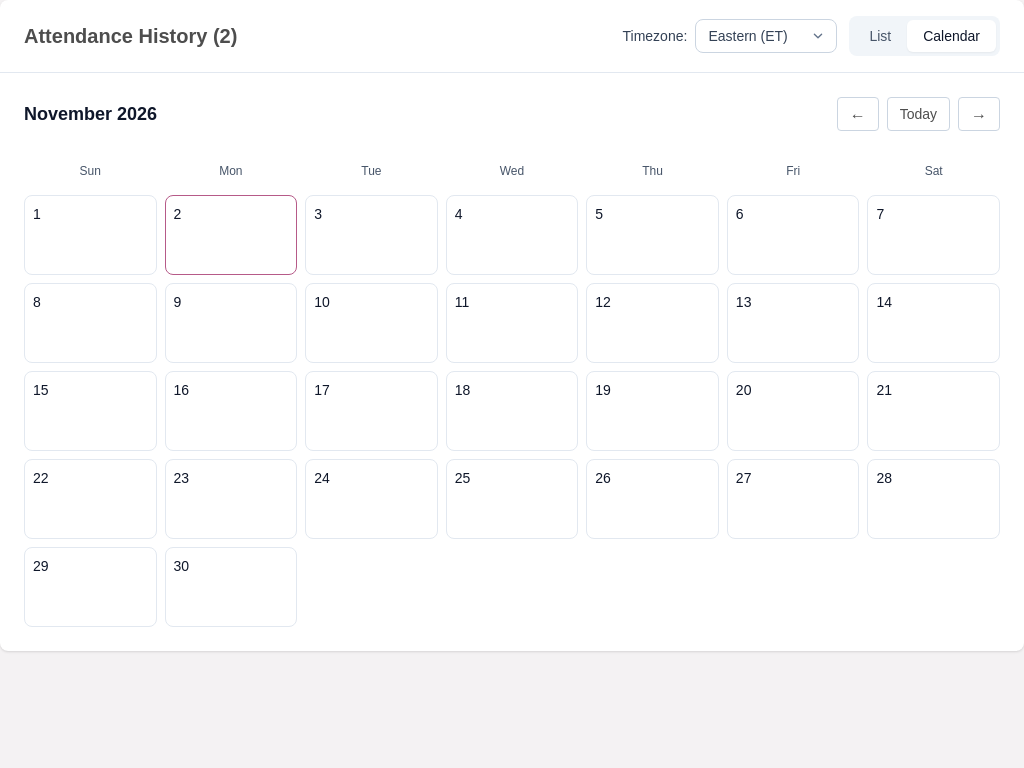
Test: MemberAttendanceView (admin member page) › names each prickle's host by display name, falling back to the legal name
This screenshot has width=1024, height=768.
Click the button "List" at (880, 36), box 853,20 -> 907,52
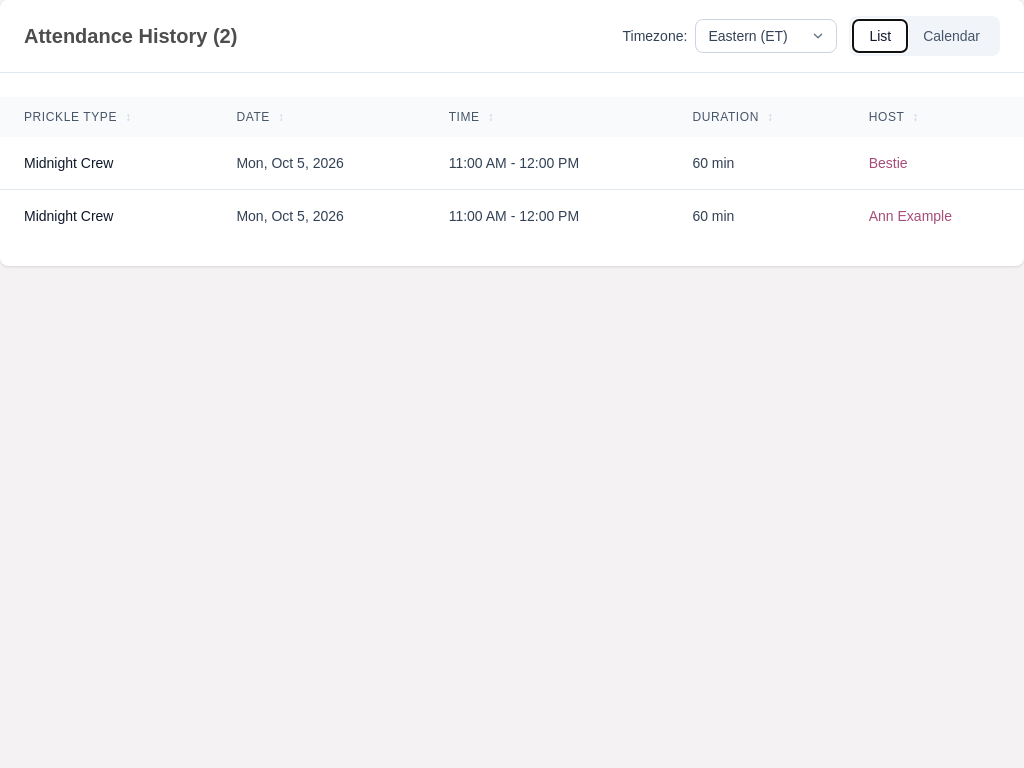
Expected: the link "Bestie" is shown, 869,155 -> 908,171
Expected: the link "Ann Example" is shown, 869,208 -> 952,224
